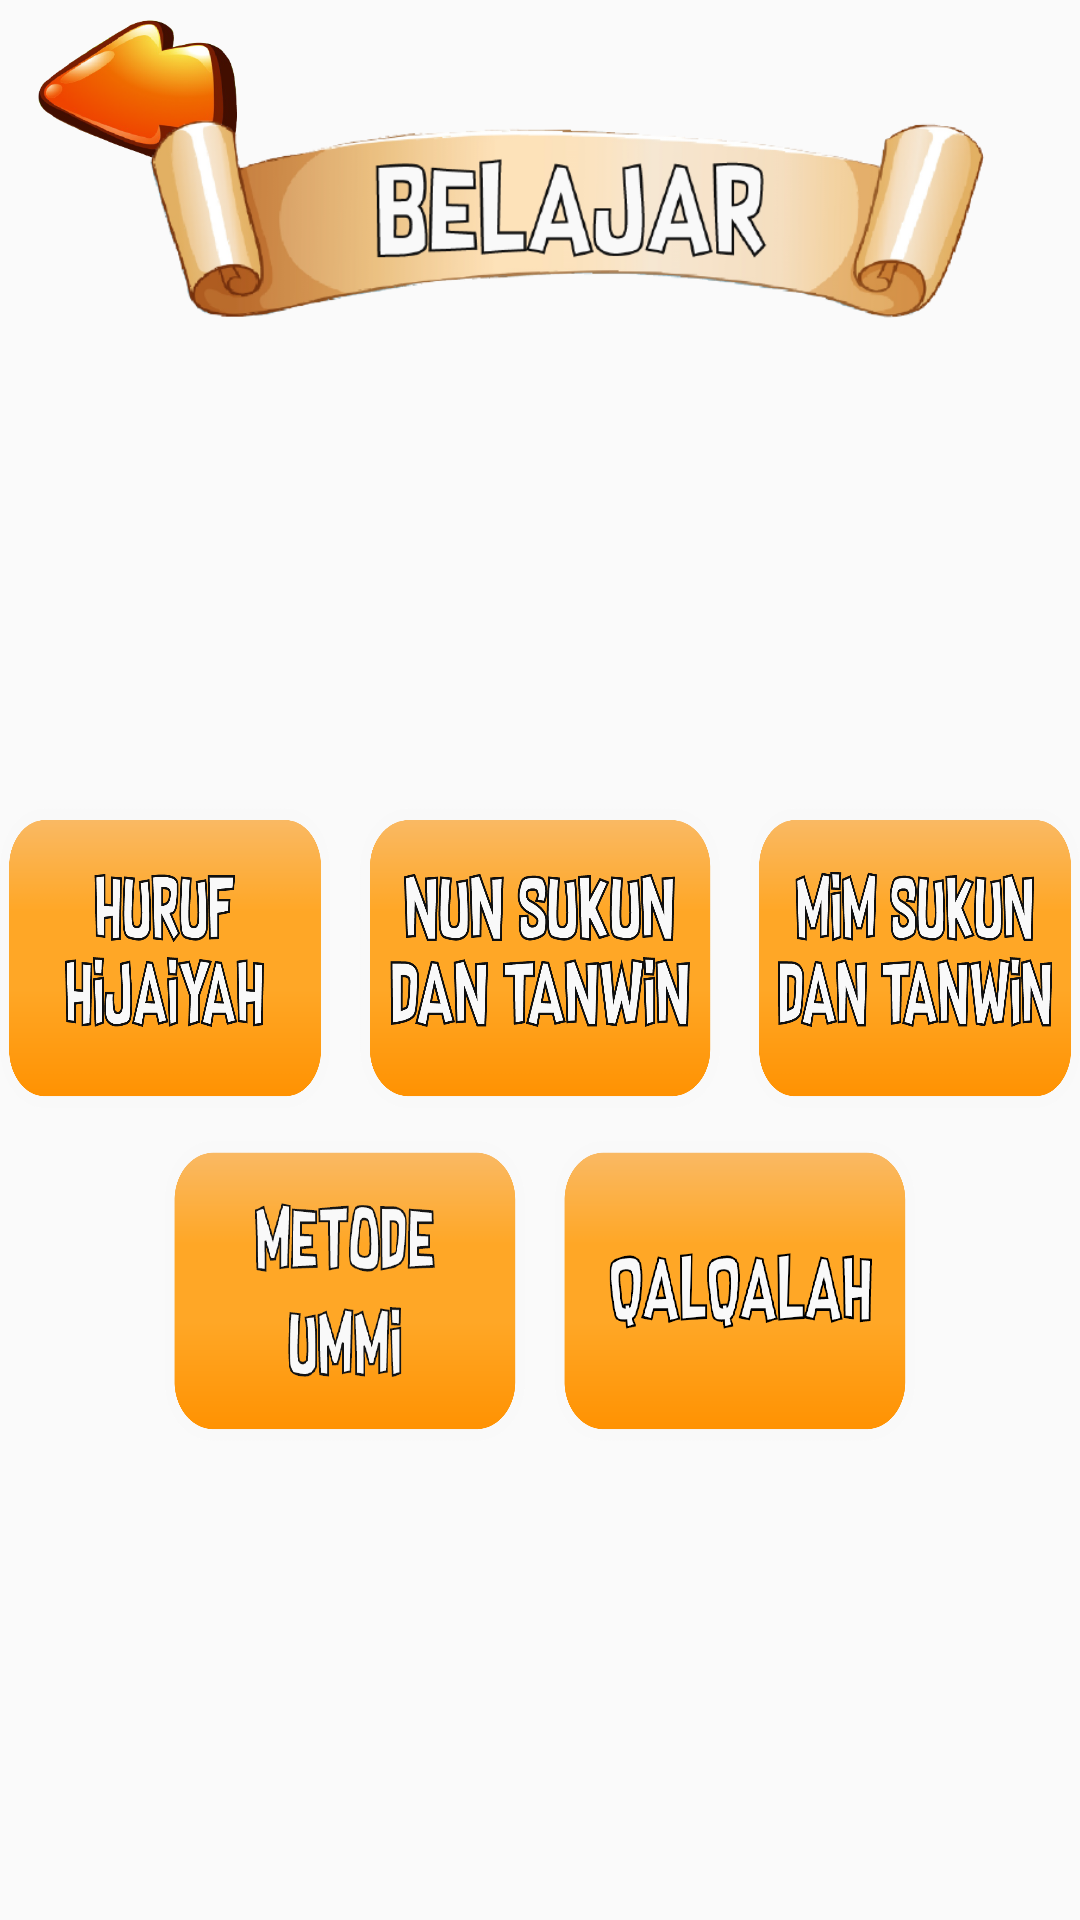

Named icons in this screenshot (1080*1920) and their bounding boxes, (x1, y1, x2, y2):
back: (38, 20, 300, 180)
